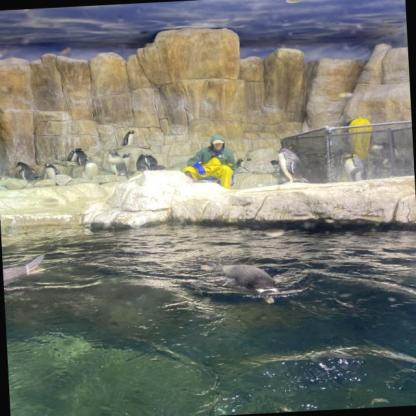penguin: (204, 257, 278, 307), (2, 250, 49, 293), (269, 145, 306, 189), (338, 149, 368, 184), (100, 145, 128, 181), (14, 161, 40, 184), (41, 160, 62, 182), (133, 151, 152, 175), (118, 149, 134, 176), (60, 144, 82, 163), (120, 128, 138, 150), (75, 148, 92, 169), (0, 166, 6, 184)
